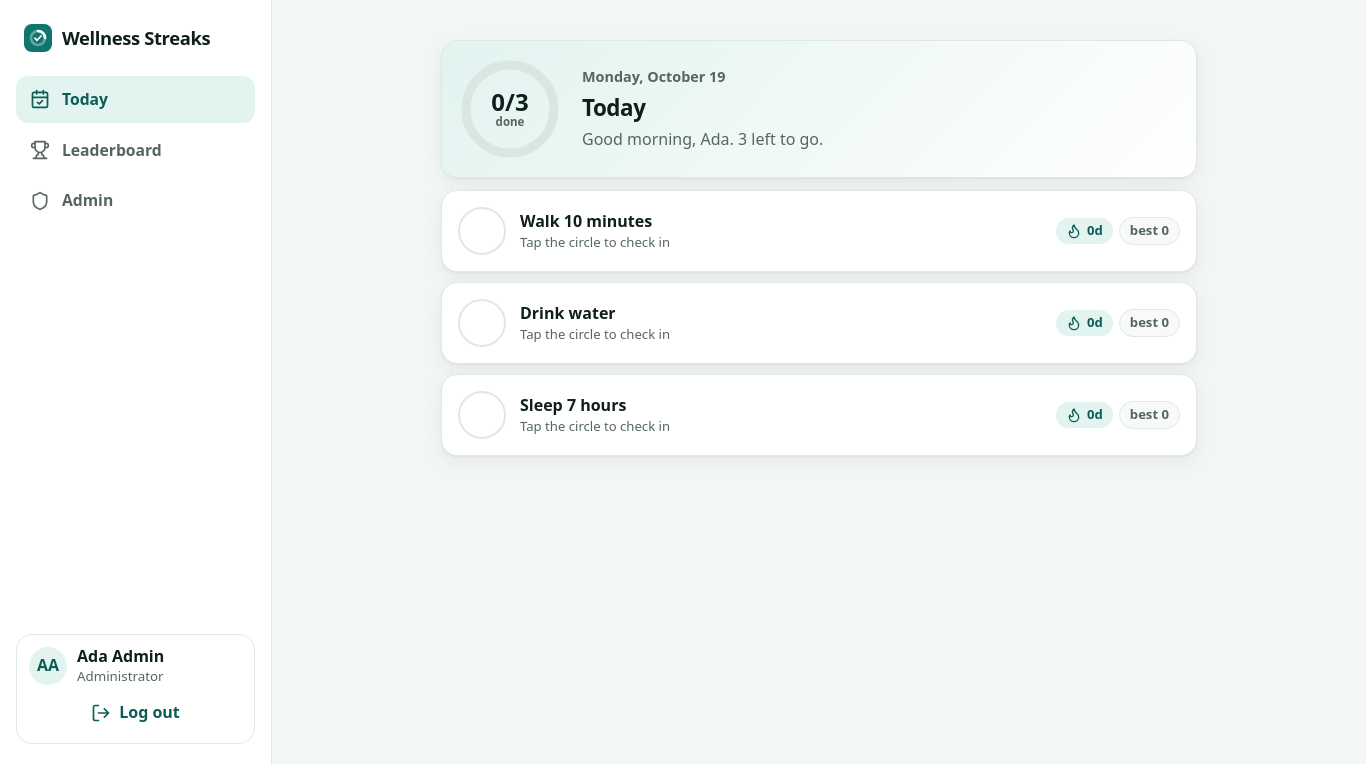
Test case: admin-only visibility › shows Admin and lets an admin create a habit
This screenshot has width=1366, height=764.
Click the link "Admin" at (72, 200), box left=30, top=190, right=113, bottom=212
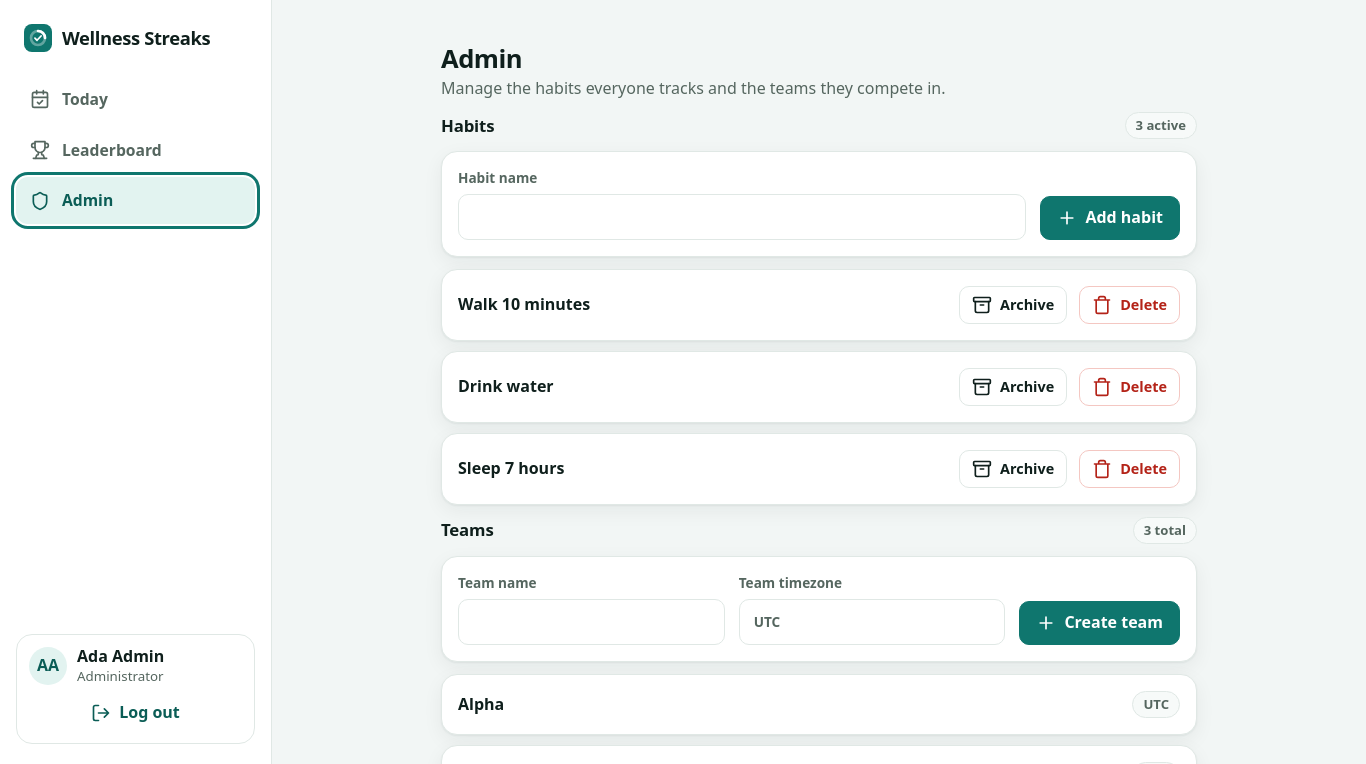
Type "Stretch" into the field labelled "Habit name" at (742, 217), box left=458, top=194, right=1026, bottom=240
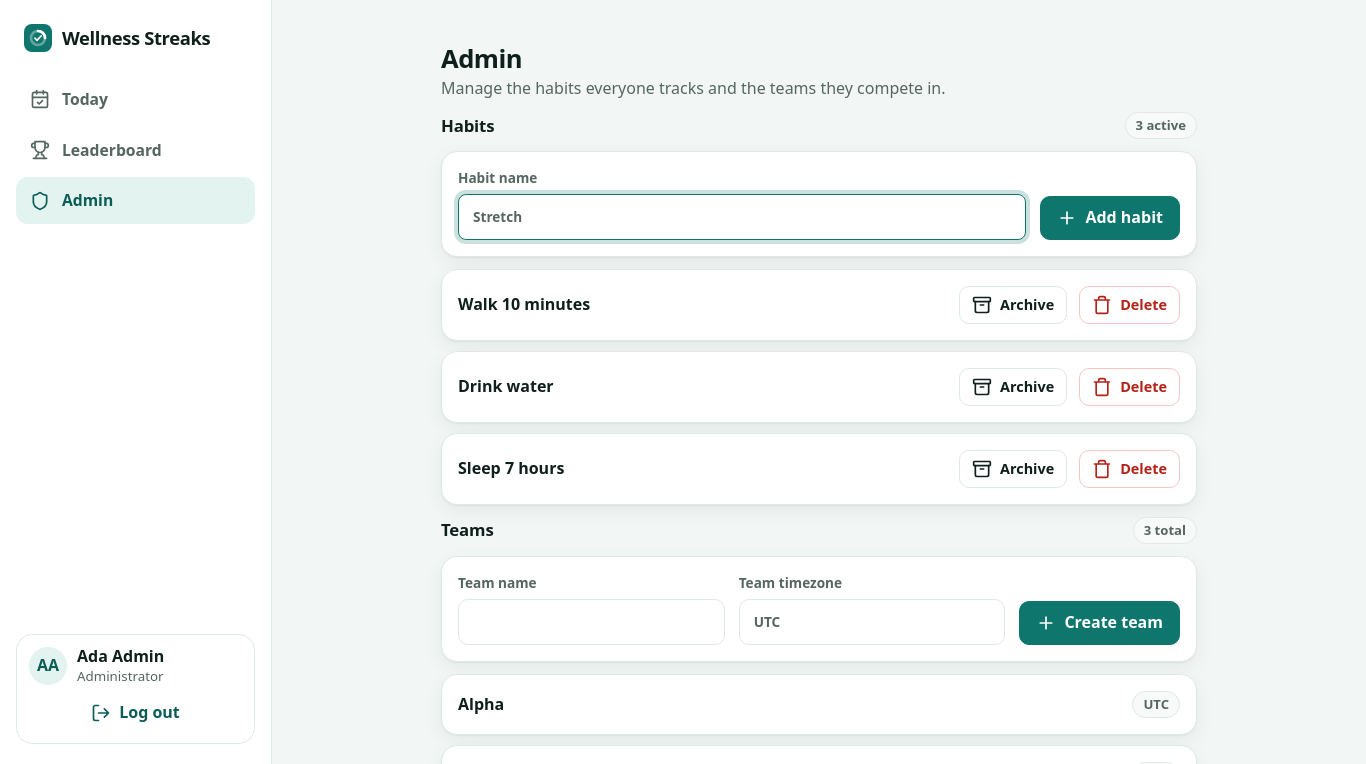
Click the button "Add habit" at (1110, 218), box left=1040, top=196, right=1180, bottom=240
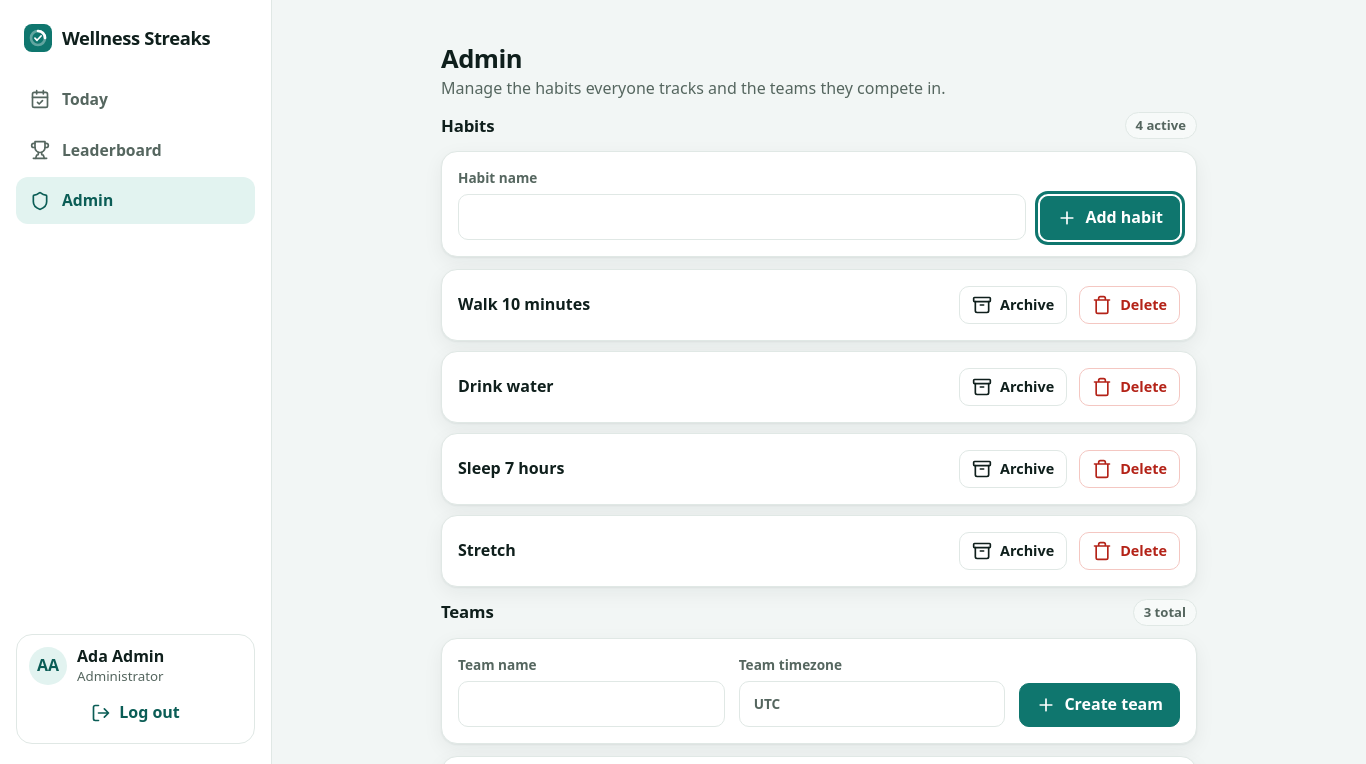
Expected: the text "Stretch" is shown, left=458, top=539, right=516, bottom=561
